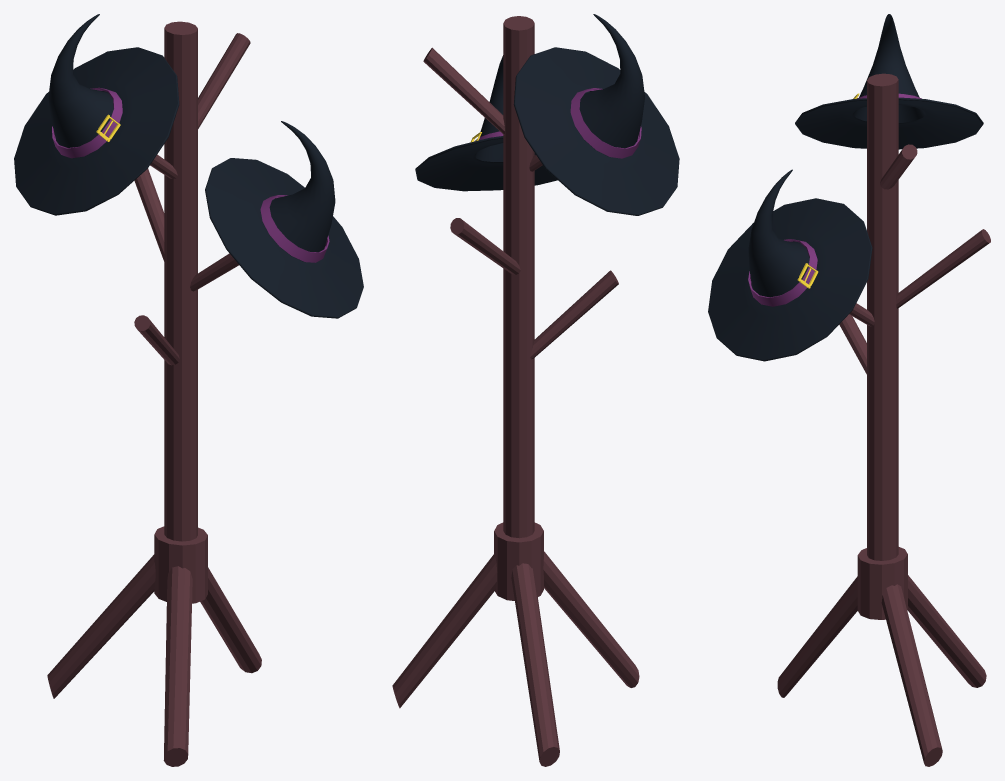
File: cabide.fbx
3 views of the same model, side by side, from view 1: azimuth 30°, elevation 25°; view 2: azimuth 150°, elevation 25°; view 3: azimuth 270°, elevation 25° (orthographic). The views are drawn at different scales.
Visible parts, largest first — view 1: Circle.011; view 2: Circle.011; view 3: Circle.011.
Boxes of the visible parts, box(x1,y1,x2,y2) form: Circle.011: box(14, 14, 363, 766); Circle.011: box(392, 14, 679, 766); Circle.011: box(708, 14, 990, 766).
Bounding box in the file's own units: 89.13 × 219 × 83.55.
